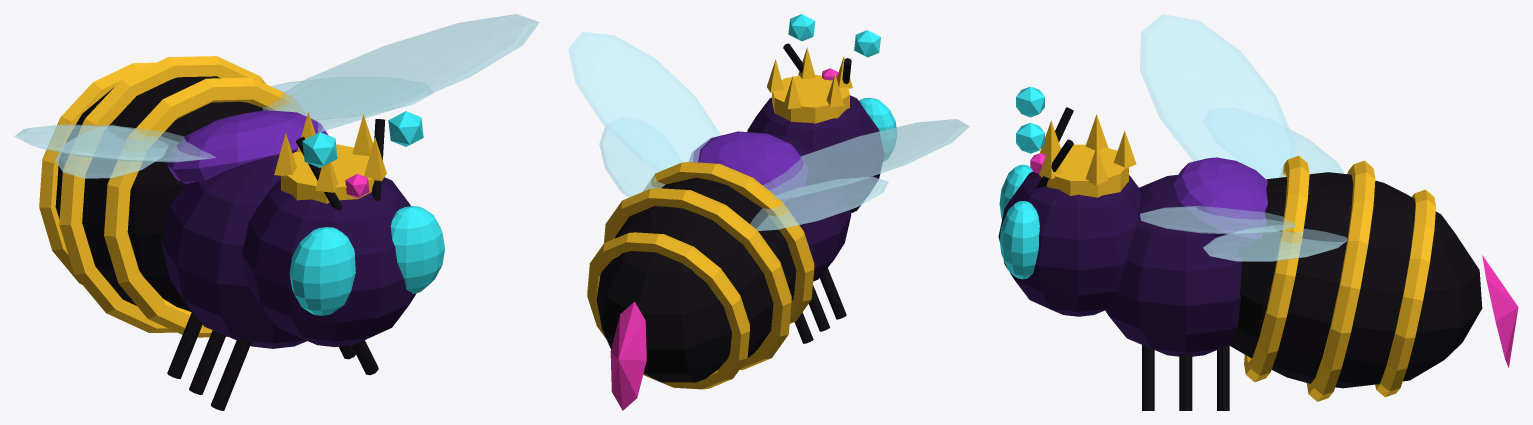
The model's file is AbejaEclipse.fbx.
3 renders of one model, left to right at view 1: azimuth 30°, elevation 25°; view 2: azimuth 150°, elevation 25°; view 3: azimuth 270°, elevation 25°, orthographic. The views are drawn at different scales.
Visible parts, largest first — view 1: Cuerpo, Brillo_Oro, Alas, Brillo_Cian, Brillo_Magenta; view 2: Cuerpo, Alas, Brillo_Oro, Brillo_Magenta, Brillo_Cian; view 3: Cuerpo, Alas, Brillo_Oro, Brillo_Cian, Brillo_Magenta.
Part boxes in pixels (x1,y1,x2,y2): Cuerpo: [55, 76, 416, 410]; Brillo_Oro: [39, 56, 300, 337]; Alas: [14, 14, 539, 178]; Brillo_Cian: [289, 111, 444, 315]; Brillo_Magenta: [345, 174, 369, 198]; Cuerpo: [596, 43, 883, 382]; Alas: [568, 32, 969, 230]; Brillo_Oro: [587, 162, 814, 389]; Brillo_Magenta: [610, 68, 838, 410]; Brillo_Cian: [788, 14, 896, 161]; Cuerpo: [998, 107, 1482, 410]; Alas: [1140, 14, 1347, 261]; Brillo_Oro: [1244, 155, 1435, 401]; Brillo_Cian: [999, 86, 1044, 279]; Brillo_Magenta: [1030, 153, 1518, 367].
Size of the model in its own units: 471 by 295 by 486.
Materials: 2 (2 with a texture image).
